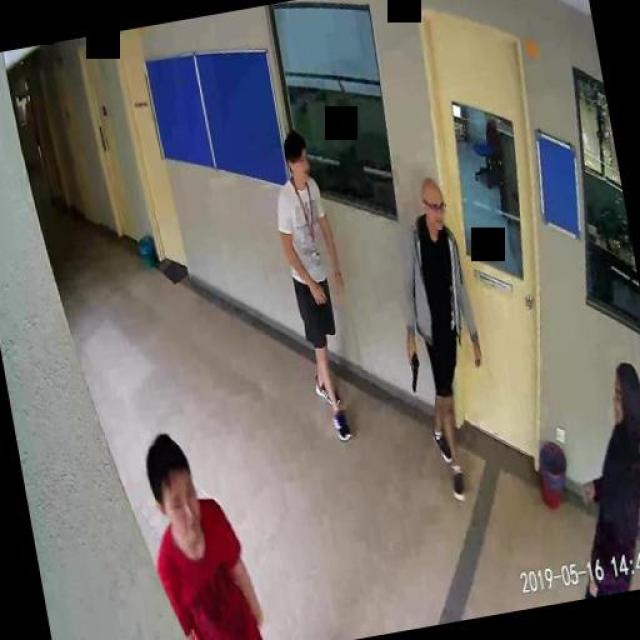gun: (402, 347, 422, 392)
